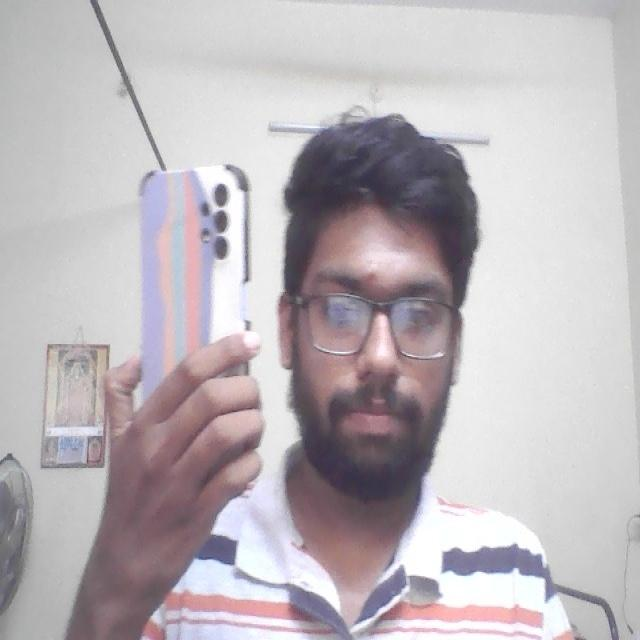Mobile: (129, 154, 258, 364)
